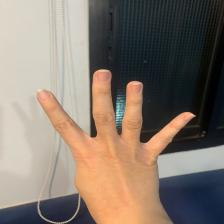four: (36, 67, 197, 216)
